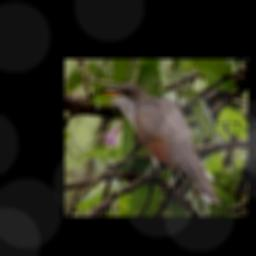Cuckoo: (97, 82, 221, 205)
